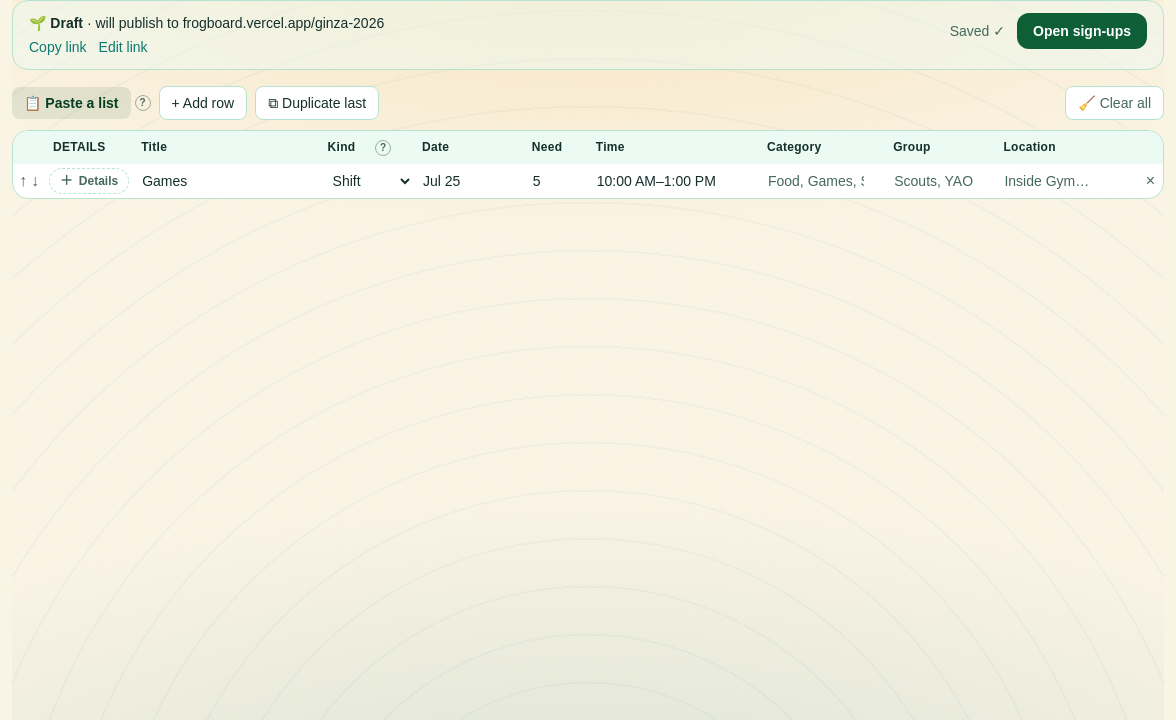
a thrown saveTask lands the row in an attention state, not a stuck spinner
Replace the text in the field named "Title, row 1" with "Games Booth" at (226, 181), box [133, 164, 320, 198]
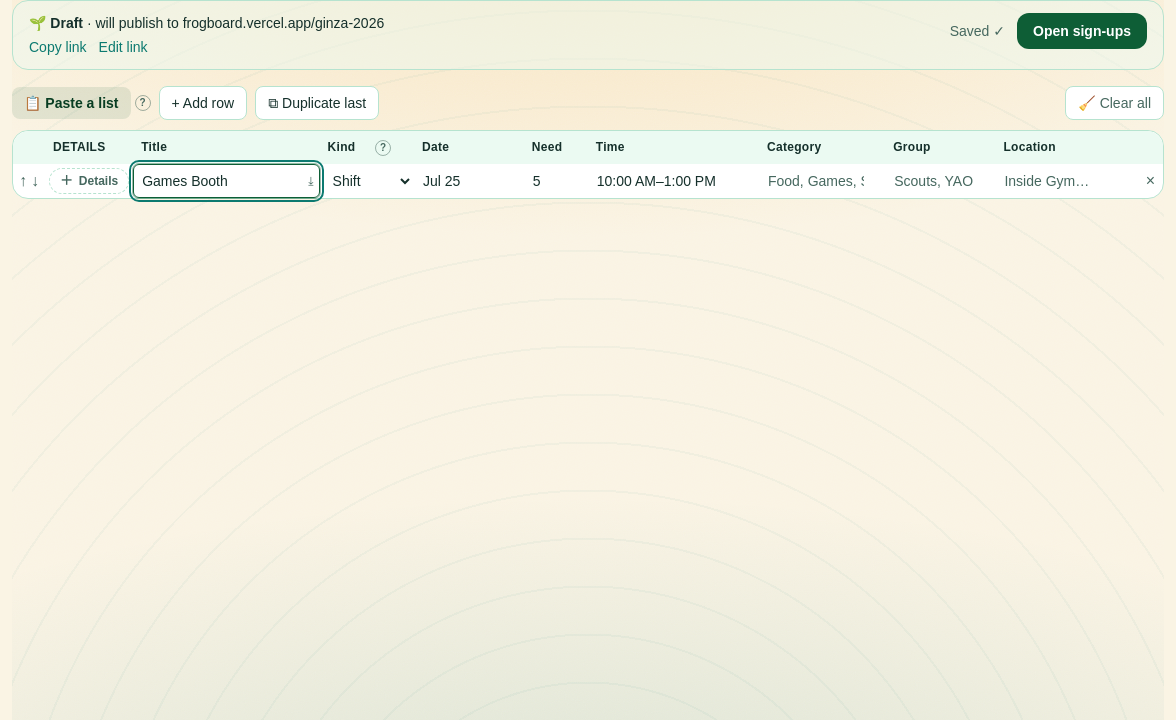
Click the element that starts with "🌱 Draft".
click(588, 360)  # box [12, 0, 1164, 719]
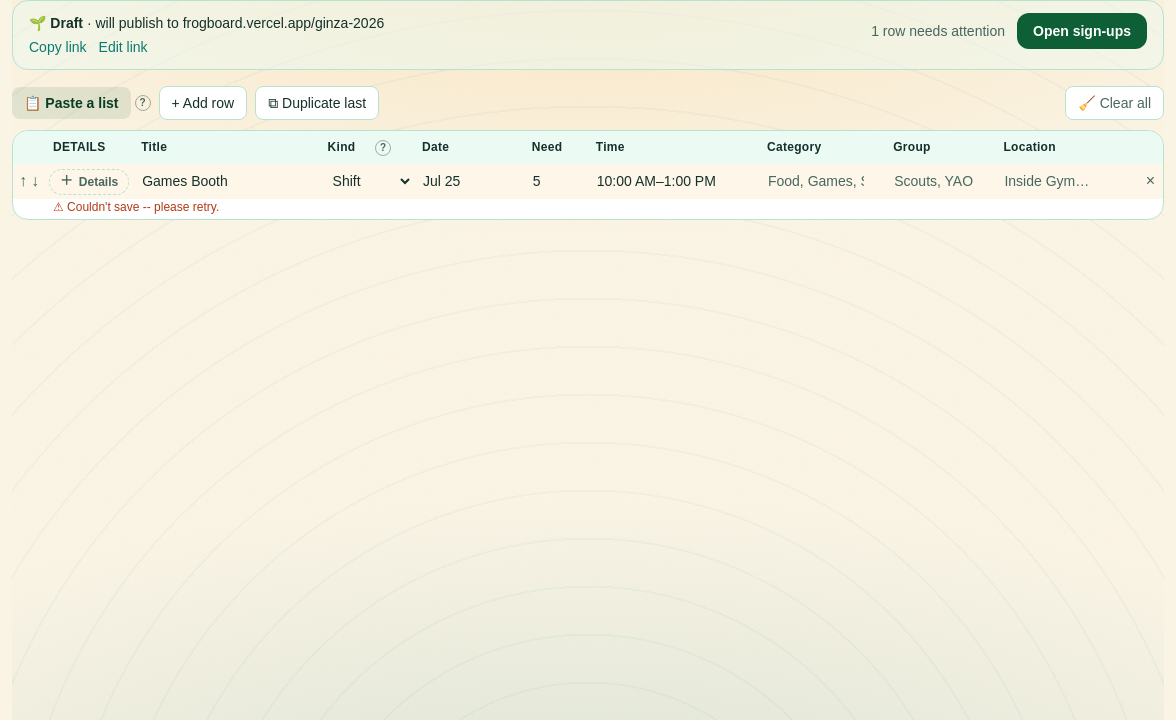
Check: the text "1 row needs attention" is shown, box [871, 21, 1005, 41]
Check: the text "⚠ Couldn't save -- please retry." is shown, box [13, 199, 1163, 219]
